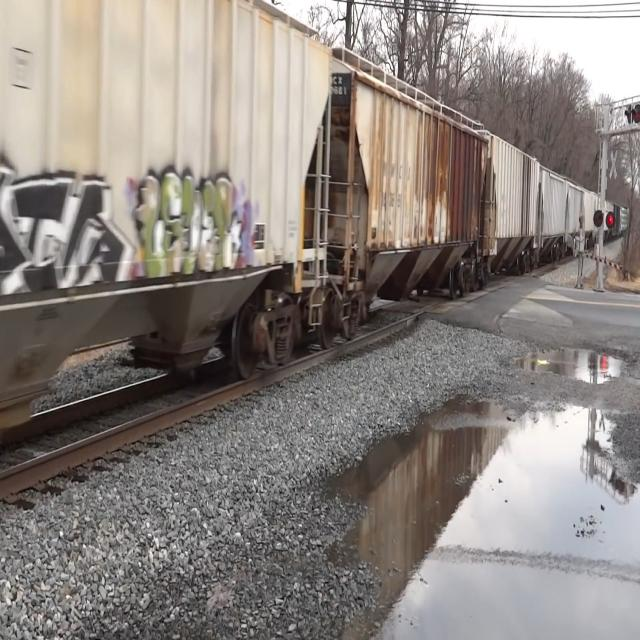hopper: (0, 5, 335, 399), (335, 37, 492, 331), (489, 120, 541, 293)
